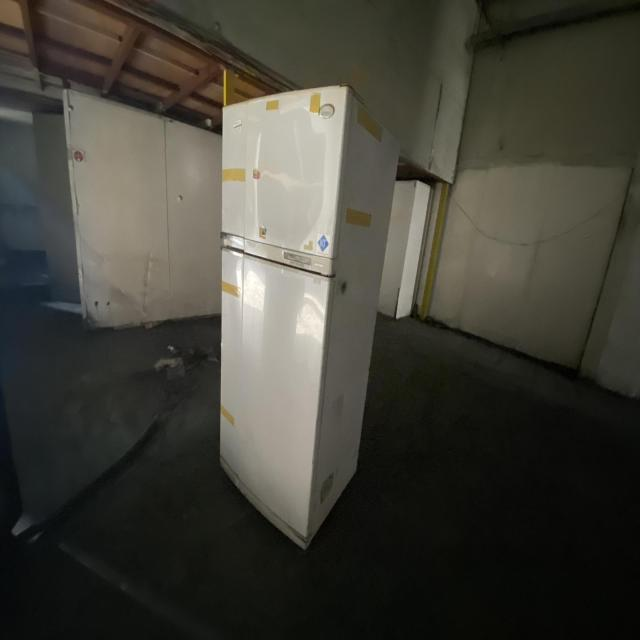refrigerator: (216, 81, 404, 554)
